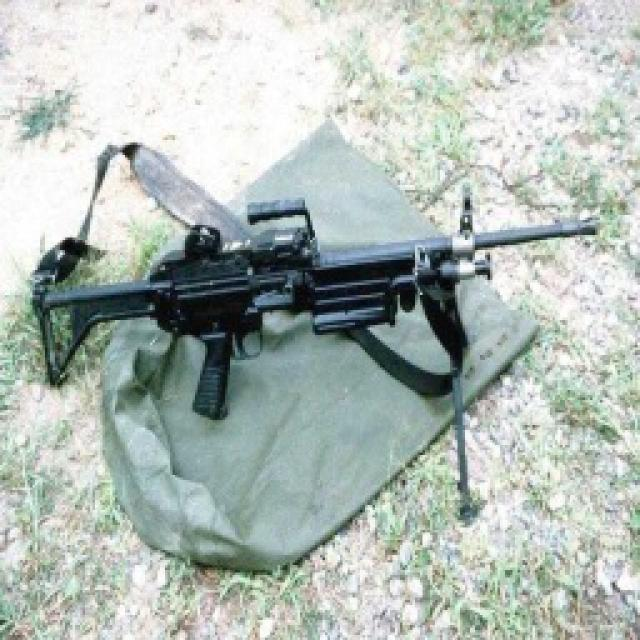long weapon: (31, 196, 624, 464)
